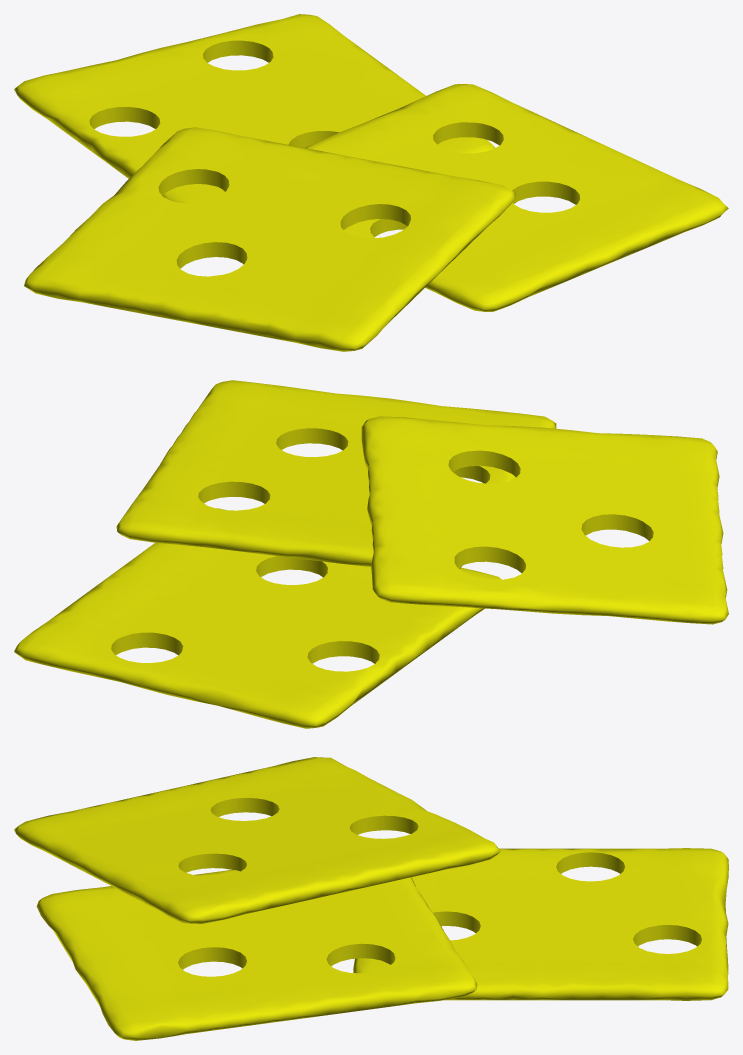
The model's file is Cheese Slices.fbx.
3 views of the same model, one above another, from view 1: azimuth 30°, elevation 25°; view 2: azimuth 150°, elevation 25°; view 3: azimuth 270°, elevation 25° (orthographic). The views are drawn at different scales.
Visible parts, largest first — view 1: Slices; view 2: Slices; view 3: Slices.
Boxes of the visible parts, left/top/right/bottom form: Slices: left=14, top=14, right=728, bottom=351; Slices: left=14, top=380, right=728, bottom=728; Slices: left=14, top=757, right=728, bottom=1040.
Bounding box in the file's own units: 48.8 × 4.36 × 51.74.
